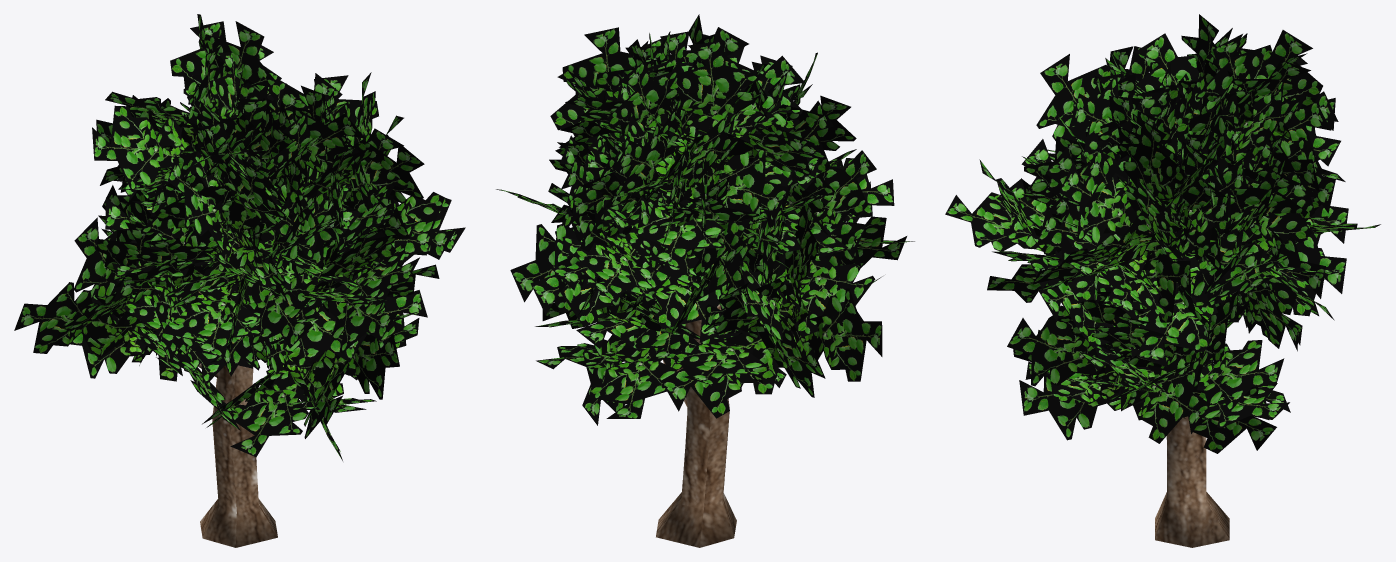
Rendered from Tree.fbx.
3 views of the same model, side by side, from view 1: azimuth 30°, elevation 25°; view 2: azimuth 150°, elevation 25°; view 3: azimuth 270°, elevation 25° (orthographic). The views are drawn at different scales.
Parts seen in each view (by area): view 1: Tree; view 2: Tree; view 3: Tree.
Part boxes in pixels (bbox=[...]): Tree: bbox=[14, 14, 465, 547]; Tree: bbox=[496, 14, 914, 547]; Tree: bbox=[945, 14, 1380, 547].
Bounding box in the file's own units: 1182 × 1495 × 1168.
